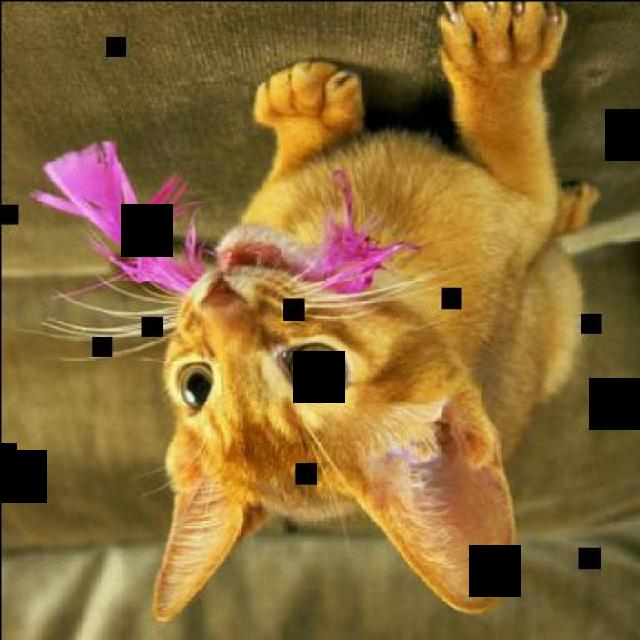unauthorized: (17, 0, 600, 622)
